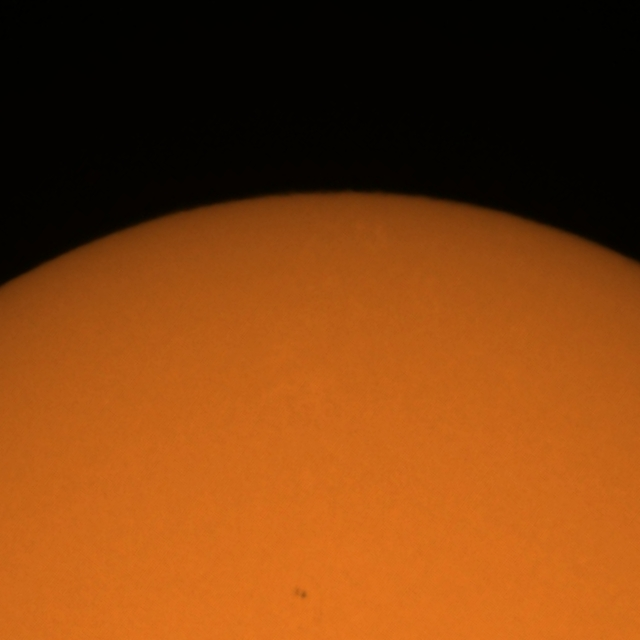sunspot: (292, 586, 308, 602)
